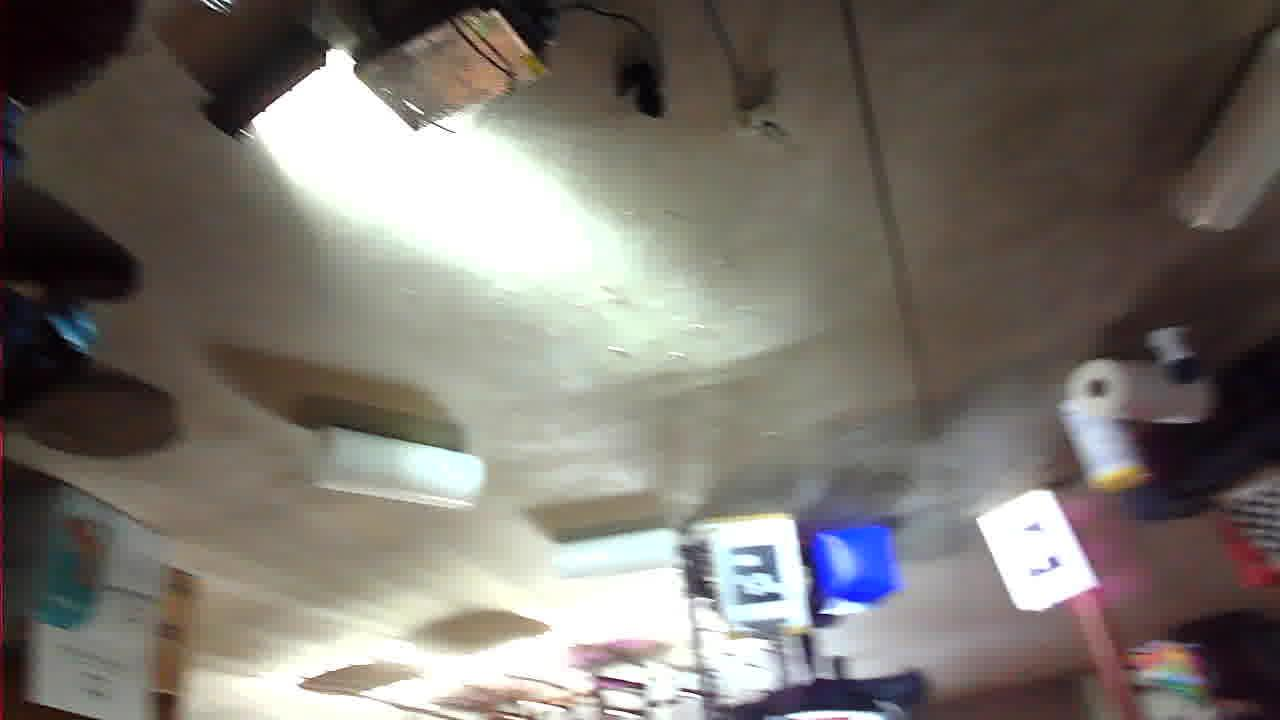coral: (0, 490, 105, 694), (803, 210, 970, 293), (604, 139, 724, 190)
